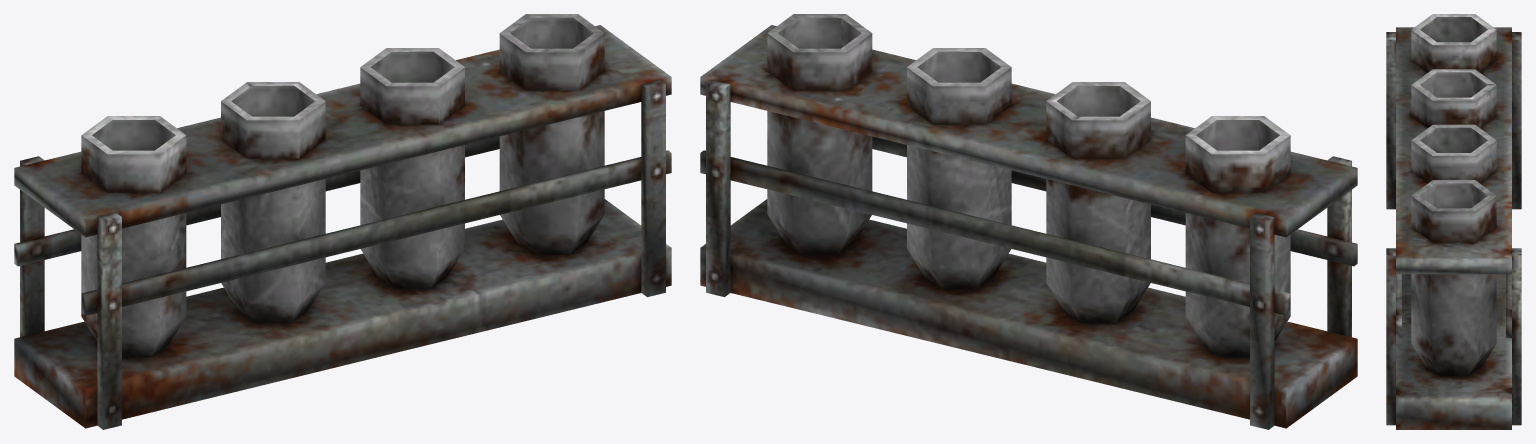
Rendered from test_tube_rack.dae.
3 views of the same model, side by side, from view 1: azimuth 30°, elevation 25°; view 2: azimuth 150°, elevation 25°; view 3: azimuth 270°, elevation 25° (orthographic). The views are drawn at different scales.
Parts seen in each view (by area): view 1: test_tube_rack_mesh; view 2: test_tube_rack_mesh; view 3: test_tube_rack_mesh.
Part boxes in pixels (left/top/right/bottom): test_tube_rack_mesh: left=14, top=14, right=671, bottom=429; test_tube_rack_mesh: left=700, top=14, right=1357, bottom=429; test_tube_rack_mesh: left=1386, top=14, right=1521, bottom=429.
Bounding box in the file's own units: 0.6216 × 0.25 × 0.1527.
